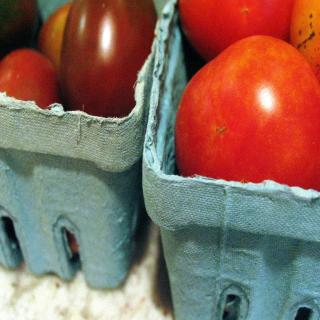tomato: (172, 35, 316, 198), (61, 0, 160, 120), (179, 0, 293, 64), (0, 47, 55, 111), (37, 5, 69, 64)
